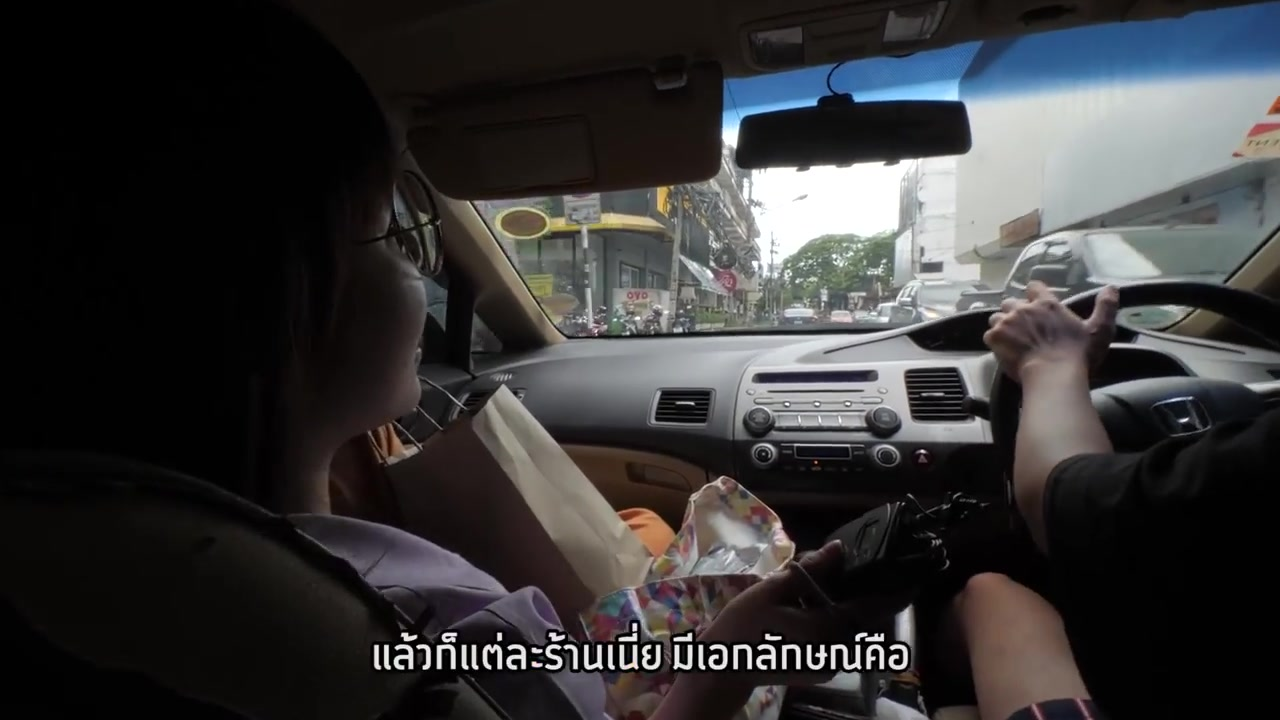text-label: (366, 618, 915, 674)
